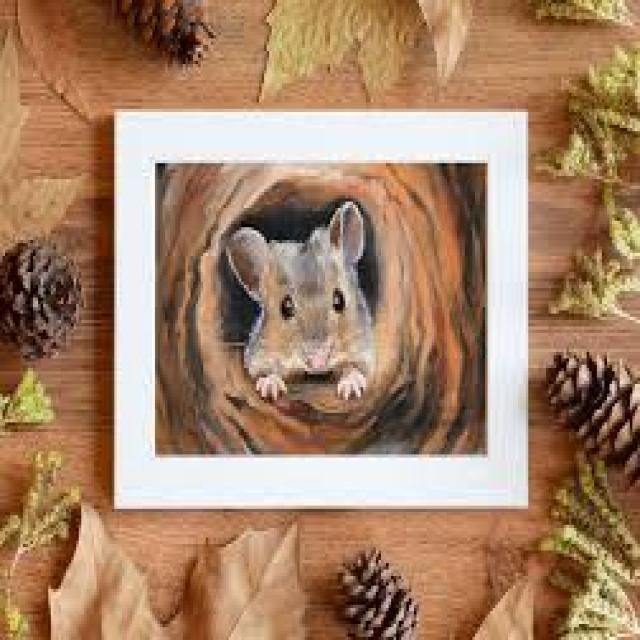Rat: (218, 199, 398, 443)
